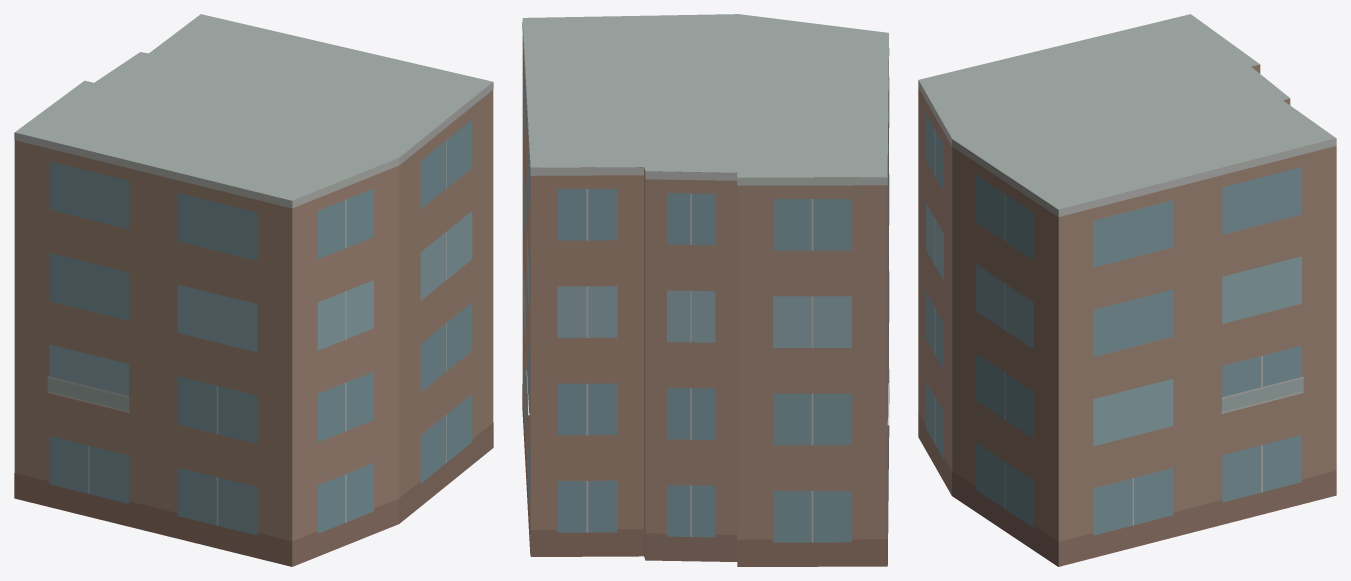
Rendered from survey-upis-32638961.glb.
3 views of the same model, side by side, from view 1: azimuth 30°, elevation 25°; view 2: azimuth 150°, elevation 25°; view 3: azimuth 270°, elevation 25° (orthographic). The views are drawn at different scales.
Visible parts, largest first — view 1: survey-upis-32638961.tmp; view 2: survey-upis-32638961.tmp; view 3: survey-upis-32638961.tmp.
Part boxes in pixels (left/top/right/bottom): survey-upis-32638961.tmp: left=14, top=14, right=493, bottom=566; survey-upis-32638961.tmp: left=522, top=14, right=889, bottom=566; survey-upis-32638961.tmp: left=918, top=14, right=1336, bottom=566.
Bounding box in the file's own units: 13.76 × 11.7 × 12.43.
